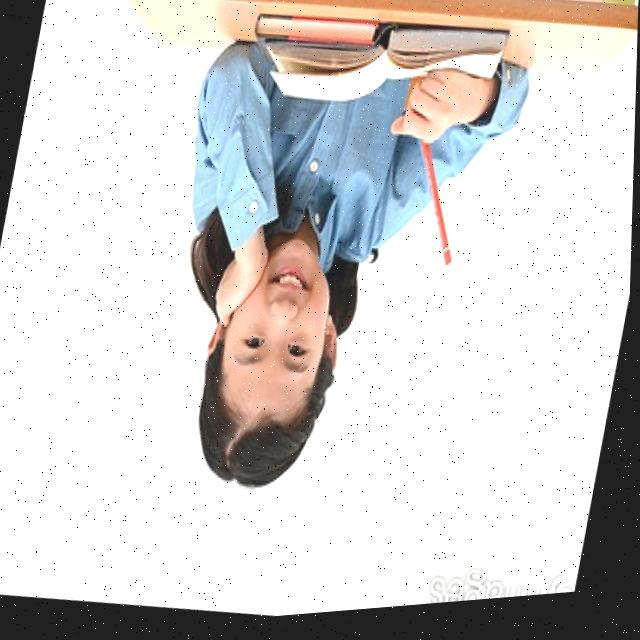studying-person: (111, 0, 559, 549)
